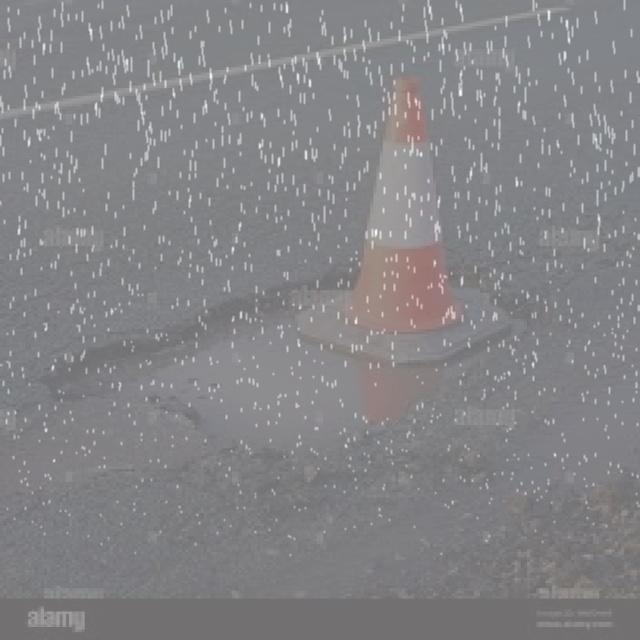Pothole: (0, 250, 573, 506)
